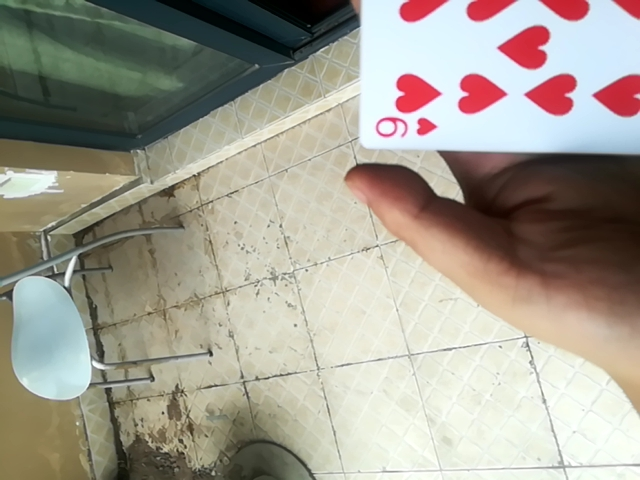hx 9: (353, 1, 638, 158)
